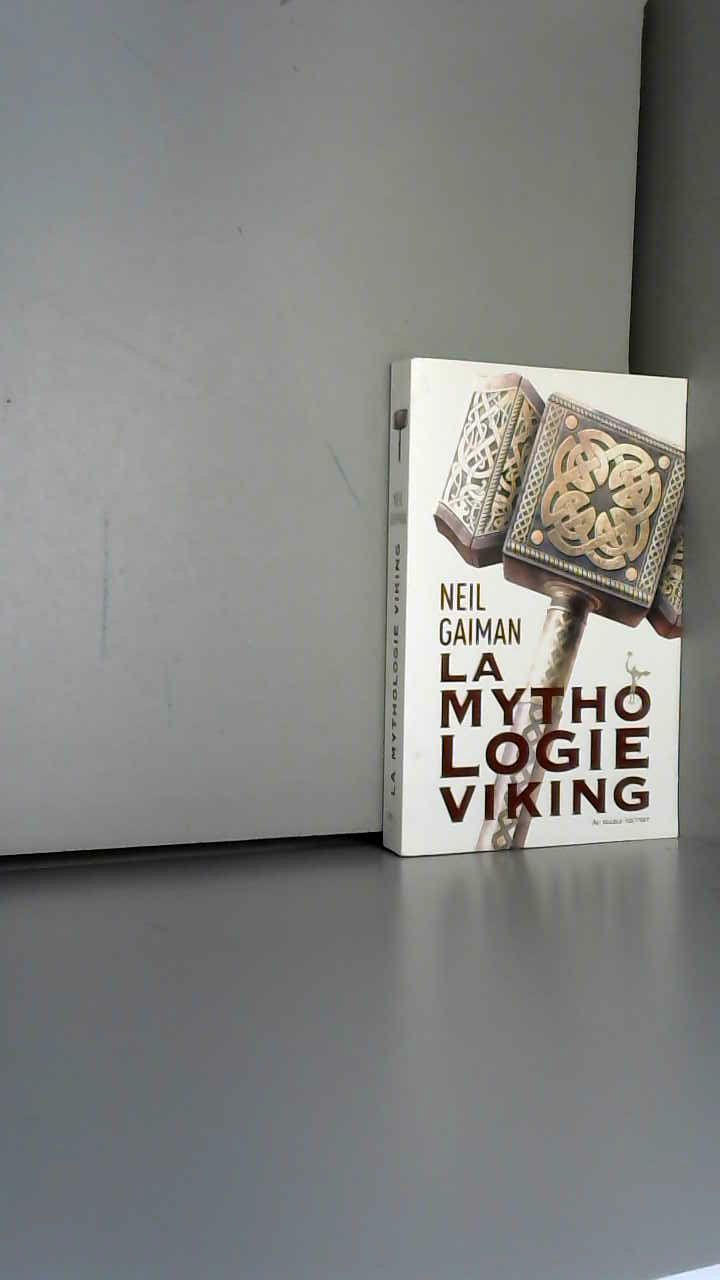book: (380, 330, 720, 885)
